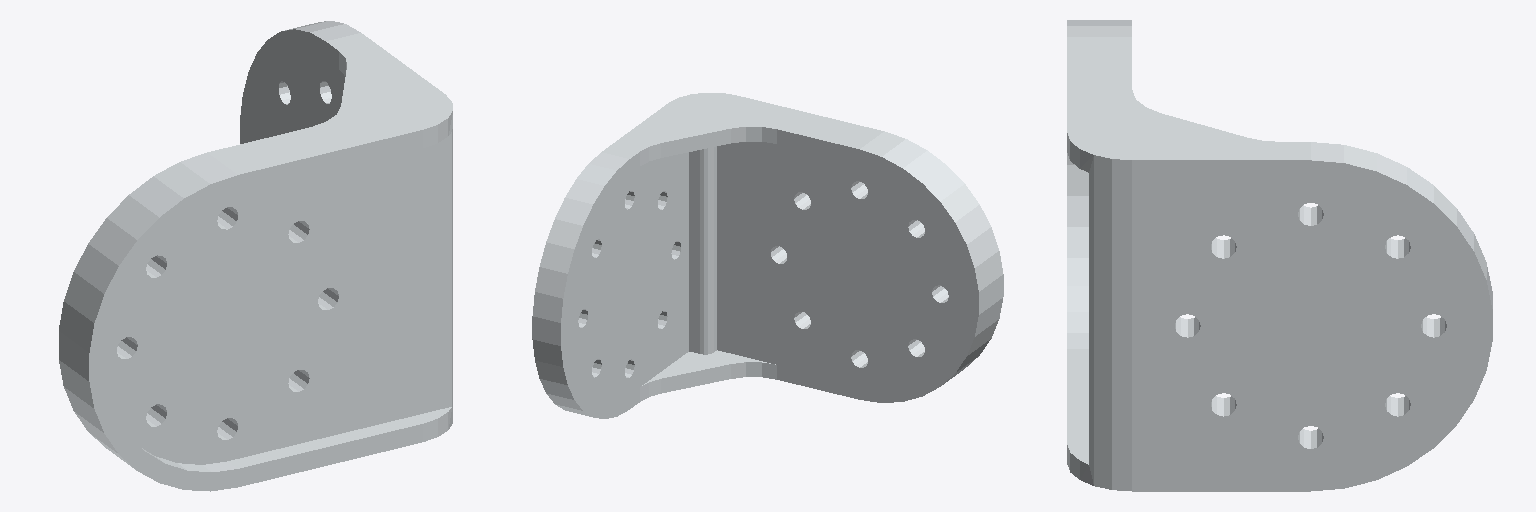
The robot description file, URDF, robot "urdf_2":
<?xml version="1.0" encoding="utf-8"?>
<!-- This URDF was automatically created by SolidWorks to URDF Exporter! Originally created by [author] ([email redacted]) 
     Commit Version: 1.6.0-4-g7f85cfe  Build Version: 1.6.7995.38578
     For more information, please see http://wiki.ros.org/sw_urdf_exporter -->
<robot
  name="urdf_2">
  <link
    name="base_link">
    <inertial>
      <origin
        xyz="-0.00062673 1.1381E-05 0.050305"
        rpy="0 0 0" />
      <mass
        value="0.41073" />
      <inertia
        ixx="0.00083207"
        ixy="4.0031E-07"
        ixz="-9.7278E-07"
        iyy="0.00083529"
        iyz="-2.7137E-07"
        izz="0.0010642" />
    </inertial>
    <visual>
      <origin
        xyz="0 0 0"
        rpy="0 0 0" />
      <geometry>
        <mesh
          filename="package://urdf_2/meshes/base_link.STL" />
      </geometry>
      <material
        name="">
        <color
          rgba="0.62745 0.62745 0.62745 1" />
      </material>
    </visual>
    <collision>
      <origin
        xyz="0 0 0"
        rpy="0 0 0" />
      <geometry>
        <mesh
          filename="package://urdf_2/meshes/base_link.STL" />
      </geometry>
    </collision>
  </link>
  <link
    name="L_1">
    <inertial>
      <origin
        xyz="-0.0080549 -0.028336 0.25366"
        rpy="0 0 0" />
      <mass
        value="2.495" />
      <inertia
        ixx="0.050023"
        ixy="0.00065125"
        ixz="0.0031617"
        iyy="0.053878"
        iyz="-0.0009559"
        izz="0.02087" />
    </inertial>
    <visual>
      <origin
        xyz="0 0 0"
        rpy="0 0 0" />
      <geometry>
        <mesh
          filename="package://urdf_2/meshes/L_1.STL" />
      </geometry>
      <material
        name="">
        <color
          rgba="0.62745 0.62745 0.62745 1" />
      </material>
    </visual>
    <collision>
      <origin
        xyz="0 0 0"
        rpy="0 0 0" />
      <geometry>
        <mesh
          filename="package://urdf_2/meshes/L_1.STL" />
      </geometry>
    </collision>
  </link>
  <joint
    name="J_1"
    type="revolute">
    <origin
      xyz="-0.00056221 0 0.087025"
      rpy="0 0 0" />
    <parent
      link="base_link" />
    <child
      link="L_1" />
    <axis
      xyz="0 0 -1" />
    <limit
      lower="-1.5"
      upper="1.5"
      effort="110"
      velocity="10" />
  </joint>
  <link
    name="L_2">
    <inertial>
      <origin
        xyz="-0.031953 -0.029158 1.8101E-05"
        rpy="0 0 0" />
      <mass
        value="0.4111" />
      <inertia
        ixx="0.00049976"
        ixy="-0.0001923"
        ixz="6.0686E-20"
        iyy="0.00065934"
        iyz="2.7885E-20"
        izz="0.00068146" />
    </inertial>
    <visual>
      <origin
        xyz="0 0 0"
        rpy="0 0 0" />
      <geometry>
        <mesh
          filename="package://urdf_2/meshes/L_2.STL" />
      </geometry>
      <material
        name="">
        <color
          rgba="0.89804 0.91765 0.92941 1" />
      </material>
    </visual>
    <collision>
      <origin
        xyz="0 0 0"
        rpy="0 0 0" />
      <geometry>
        <mesh
          filename="package://urdf_2/meshes/L_2.STL" />
      </geometry>
    </collision>
  </link>
  <joint
    name="J_2"
    type="revolute">
    <origin
      xyz="-0.13431 0.0039988 0.40968"
      rpy="0 0 0" />
    <parent
      link="L_1" />
    <child
      link="L_2" />
    <axis
      xyz="1 0 0" />
    <limit
      lower="-1.5"
      upper="1.5"
      effort="110"
      velocity="10" />
  </joint>
  <link
    name="L_3">
    <inertial>
      <origin
        xyz="-0.0084552 0.057519 -0.045738"
        rpy="0 0 0" />
      <mass
        value="0.58703" />
      <inertia
        ixx="0.0022632"
        ixy="-2.1848E-05"
        ixz="-0.00019831"
        iyy="0.0023597"
        iyz="-0.00012518"
        izz="0.001174" />
    </inertial>
    <visual>
      <origin
        xyz="0 0 0"
        rpy="0 0 0" />
      <geometry>
        <mesh
          filename="package://urdf_2/meshes/L_3.STL" />
      </geometry>
      <material
        name="">
        <color
          rgba="0.79608 0.82353 0.93725 1" />
      </material>
    </visual>
    <collision>
      <origin
        xyz="0 0 0"
        rpy="0 0 0" />
      <geometry>
        <mesh
          filename="package://urdf_2/meshes/L_3.STL" />
      </geometry>
    </collision>
  </link>
  <joint
    name="J_3"
    type="revolute">
    <origin
      xyz="-0.067 -0.05289 -0.0021516"
      rpy="0 0 0" />
    <parent
      link="L_2" />
    <child
      link="L_3" />
    <axis
      xyz="0 1 0" />
    <limit
      lower="-1.5"
      upper="1.5"
      effort="110"
      velocity="10" />
  </joint>
  <link
    name="L_4">
    <inertial>
      <origin
        xyz="0.16427 -0.0090964 -0.014684"
        rpy="0 0 0" />
      <mass
        value="4.0848" />
      <inertia
        ixx="0.11101"
        ixy="0.0040368"
        ixz="0.021029"
        iyy="0.14625"
        iyz="0.00044274"
        izz="0.056847" />
    </inertial>
    <visual>
      <origin
        xyz="0 0 0"
        rpy="0 0 0" />
      <geometry>
        <mesh
          filename="package://urdf_2/meshes/L_4.STL" />
      </geometry>
      <material
        name="">
        <color
          rgba="0.69412 0.098039 0.098039 1" />
      </material>
    </visual>
    <collision>
      <origin
        xyz="0 0 0"
        rpy="0 0 0" />
      <geometry>
        <mesh
          filename="package://urdf_2/meshes/L_4.STL" />
      </geometry>
    </collision>
  </link>
  <joint
    name="J_4"
    type="revolute">
    <origin
      xyz="-0.025439 0.039499 -0.14427"
      rpy="0 0 0" />
    <parent
      link="L_3" />
    <child
      link="L_4" />
    <axis
      xyz="0.17365 0 0.98481" />
    <limit
      lower="-1.5"
      upper="1.5"
      effort="110"
      velocity="10" />
  </joint>
  <link
    name="L_5">
    <inertial>
      <origin
        xyz="-0.035775 0.011885 -0.065391"
        rpy="0 0 0" />
      <mass
        value="0.18085" />
      <inertia
        ixx="0.00037936"
        ixy="-1.7167E-07"
        ixz="-0.0001824"
        iyy="0.00050108"
        iyz="-2.3306E-08"
        izz="0.00022987" />
    </inertial>
    <visual>
      <origin
        xyz="0 0 0"
        rpy="0 0 0" />
      <geometry>
        <mesh
          filename="package://urdf_2/meshes/L_5.STL" />
      </geometry>
      <material
        name="">
        <color
          rgba="0.75294 0.75294 0 1" />
      </material>
    </visual>
    <collision>
      <origin
        xyz="0 0 0"
        rpy="0 0 0" />
      <geometry>
        <mesh
          filename="package://urdf_2/meshes/L_5.STL" />
      </geometry>
    </collision>
  </link>
  <joint
    name="J_5"
    type="revolute">
    <origin
      xyz="0.021534 -1.678E-05 -0.10534"
      rpy="0 0 0" />
    <parent
      link="L_4" />
    <child
      link="L_5" />
    <axis
      xyz="-0.98481 0 0.17365" />
    <limit
      lower="-1.5"
      upper="1.5"
      effort="110"
      velocity="10" />
  </joint>
</robot>

--- Facts derived from the render (not from the file) ---
The picture shows the robot from 3 angles, left to right: view 1: azimuth 30°, elevation 25°; view 2: azimuth 150°, elevation 25°; view 3: azimuth 270°, elevation 25°; orthographic projection.
Model urdf_2 with 6 links and 5 joints (5 revolute), rooted at base_link, posed all joints at 0.
Links seen in each view (by area): view 1: L_2; view 2: L_2; view 3: L_2.
Boxes of the visible links, x1,y1,x2,y2 form: L_2: [59, 21, 452, 491]; L_2: [532, 93, 1003, 418]; L_2: [1067, 20, 1492, 491].
Bounding box of the posed robot: 0.1088 × 0.0978 × 0.084 m (x, y, z).
Meshes: 6 distinct files referenced, 1 mesh visuals loaded (1 binary STL); not drawn: 5 (reference not matched to a file when rendering).